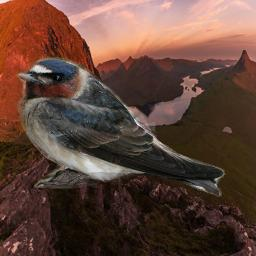Swallow: (12, 56, 226, 197)
